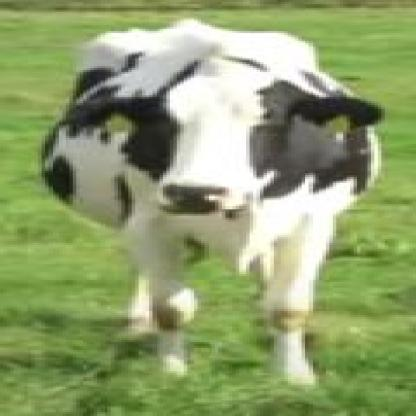cow: (43, 31, 380, 387)
